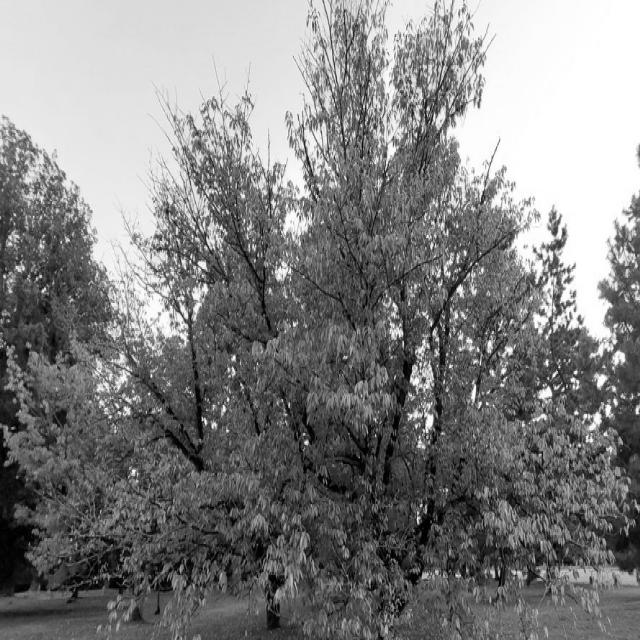sakura: (0, 0, 636, 640)
